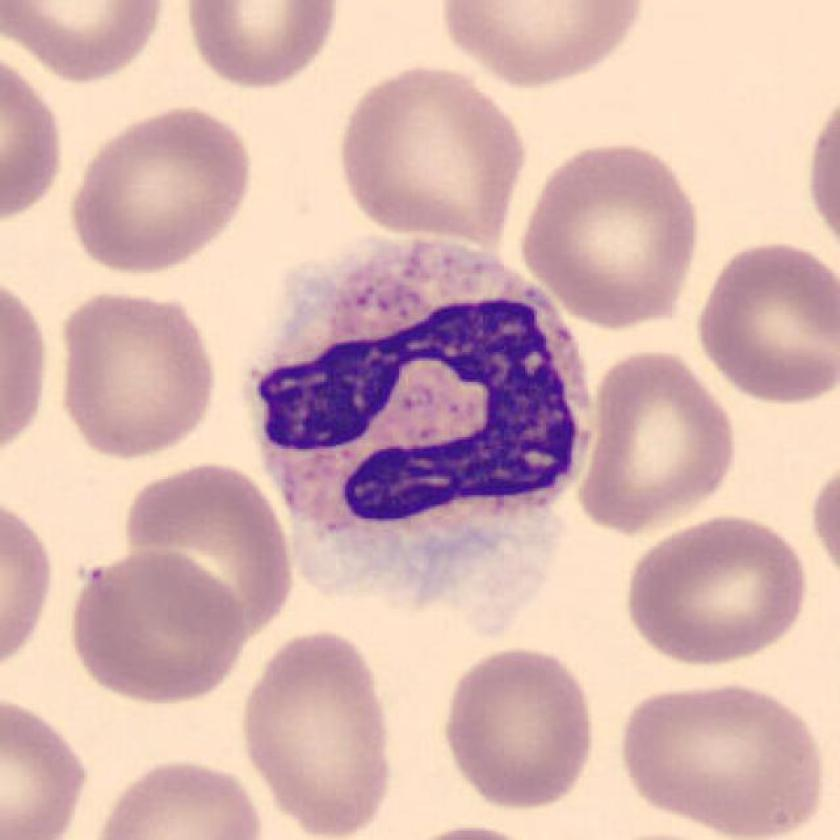neutrophil: (249, 241, 594, 634)
